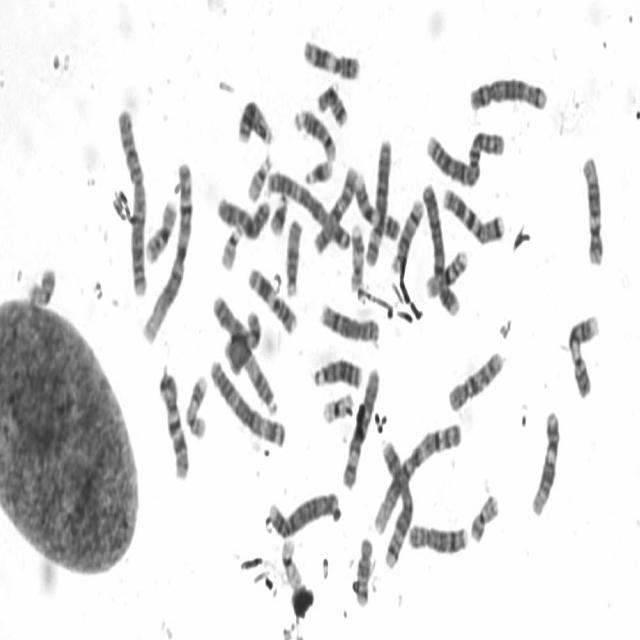A1: (370, 414, 463, 538), (138, 154, 196, 346)
A2: (114, 100, 150, 298), (422, 118, 508, 188)
A3: (205, 351, 288, 449), (263, 163, 355, 251)
B4: (418, 175, 462, 319), (264, 482, 342, 540)
B5: (378, 433, 415, 570), (466, 68, 550, 114)
C10: (310, 158, 360, 255), (445, 342, 507, 414)
C11: (244, 258, 300, 336), (300, 30, 362, 81)
C12: (528, 403, 562, 518), (579, 147, 606, 267)
C6: (338, 360, 382, 491), (361, 130, 393, 270)
C7: (438, 178, 506, 246), (156, 362, 191, 482)
C8: (316, 294, 382, 346), (405, 515, 470, 557)
C9: (350, 164, 402, 242), (566, 306, 602, 400)
D13: (234, 90, 276, 147), (308, 350, 364, 391)
D14: (388, 191, 426, 274), (290, 101, 338, 162)
D15: (239, 346, 280, 418), (282, 210, 304, 298)
E16: (141, 191, 180, 265), (422, 242, 469, 298)
E17: (183, 367, 210, 441), (347, 216, 365, 293)
E18: (314, 75, 350, 128), (352, 529, 375, 607)
F19: (277, 531, 305, 590), (318, 384, 356, 426)
F20: (467, 485, 501, 544), (24, 257, 58, 308)
G21: (301, 150, 335, 187), (266, 186, 290, 238)
G22: (244, 146, 274, 204), (217, 218, 244, 272)
X: (210, 289, 262, 368), (213, 188, 272, 240)
